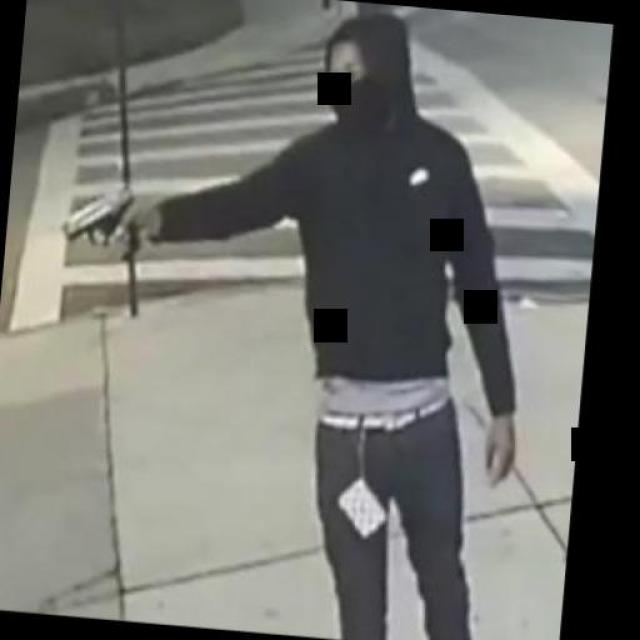gun: (58, 182, 148, 256)
